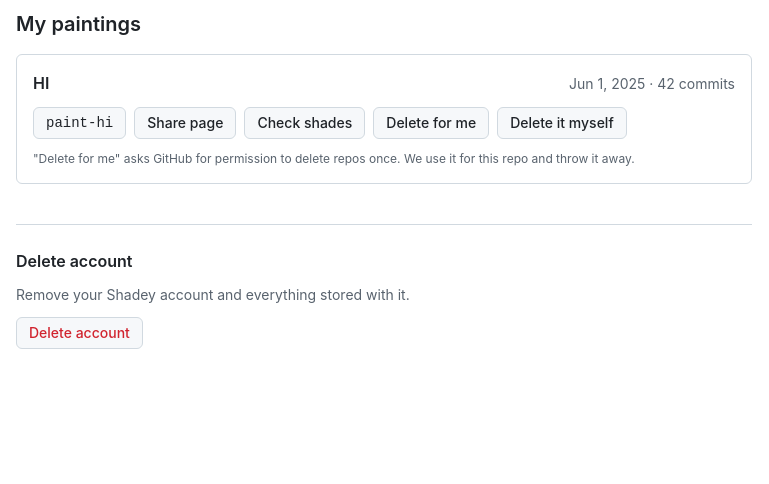
Test case: MyPaintingsPage › marks a painting deleted after the user removed the repo
This screenshot has width=769, height=484.
Click the button "Delete it myself": (562, 123) [497,107,627,139]
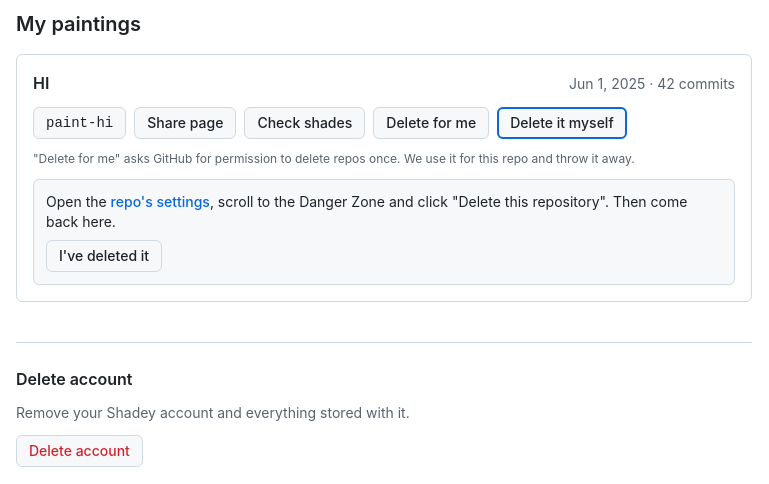
Click the button "I've deleted it": (104, 256) [46,240,162,272]
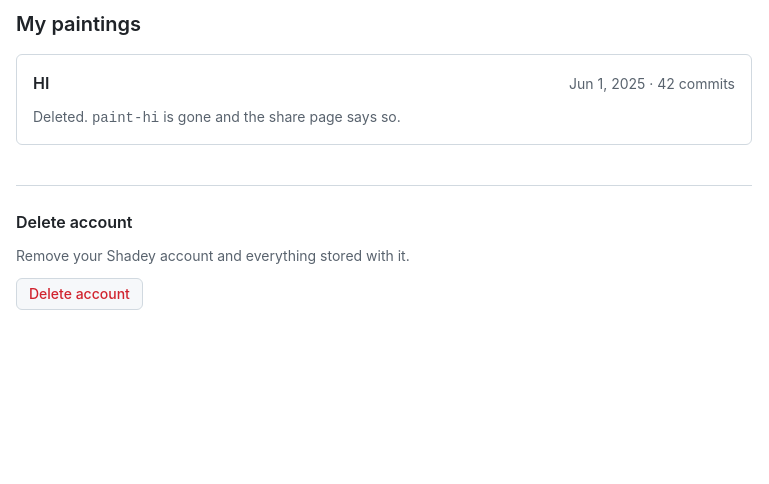
Check: the text "Deleted. paint-hi is gone and the share page says so." is shown, box [33,108,401,126]
Check: the button "Delete for me" is gone
